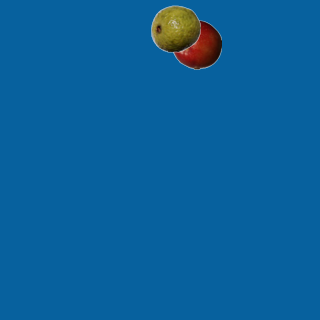Apple Braeburn: (171, 19, 221, 69)
Guava: (150, 3, 200, 53)
